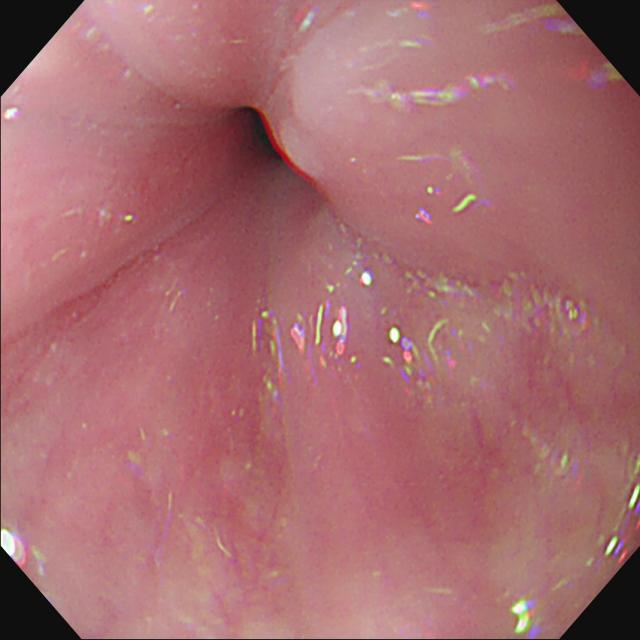E: (225, 91, 289, 173)
U: (606, 460, 640, 567), (391, 328, 420, 377), (513, 601, 541, 640), (2, 529, 27, 568), (331, 308, 349, 357)
